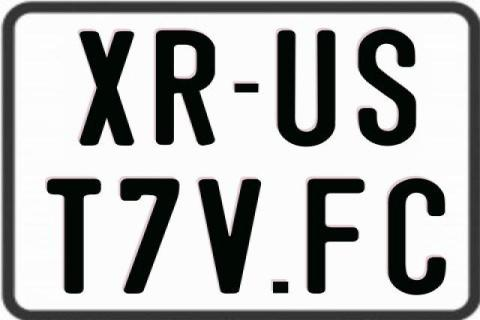0: (117, 177, 178, 293)
C: (386, 177, 444, 295)
F: (306, 176, 366, 292)
R: (154, 28, 213, 148)
S: (356, 27, 416, 146)
T: (47, 176, 105, 294)
U: (275, 29, 338, 149)
V: (198, 177, 266, 296)
X: (77, 29, 133, 148)
